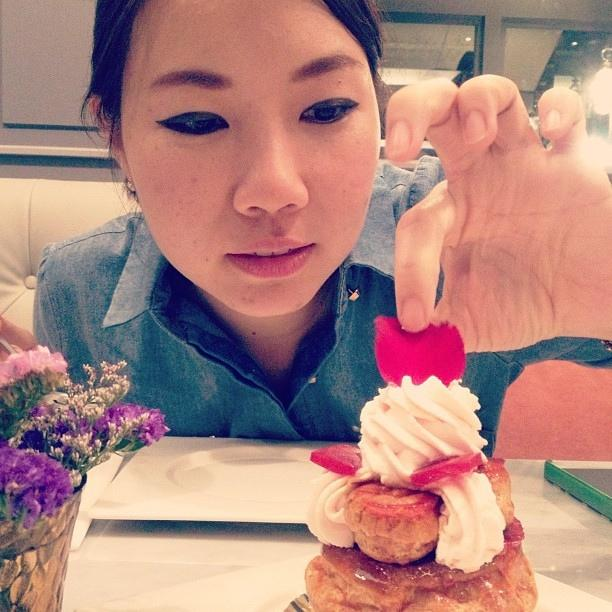strawberry: (374, 315, 466, 388), (349, 482, 440, 518), (410, 452, 483, 489), (310, 443, 362, 475)
